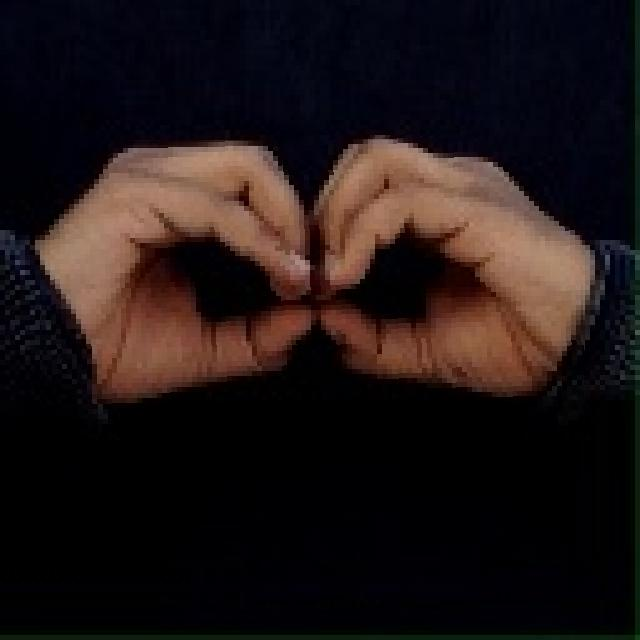B: (39, 136, 584, 437)
